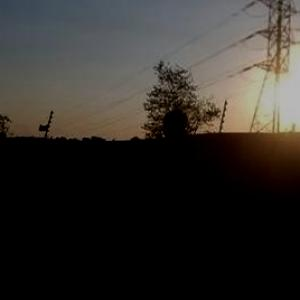follow: (134, 102, 210, 299)
